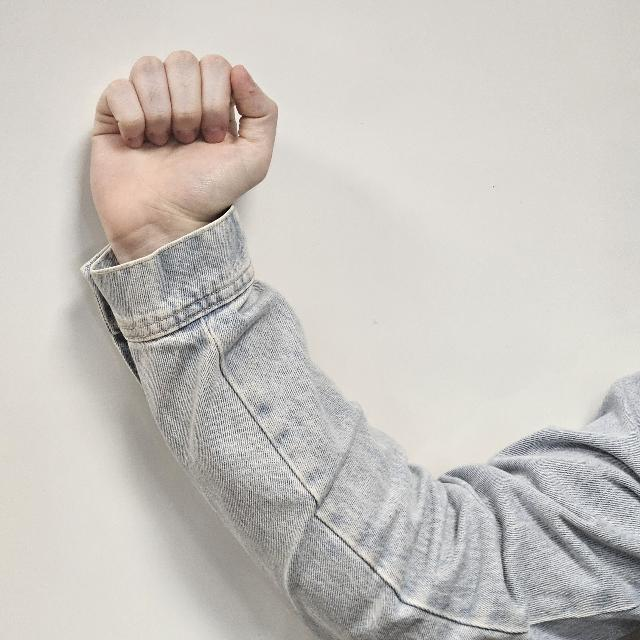Quadro: (88, 50, 280, 238)
